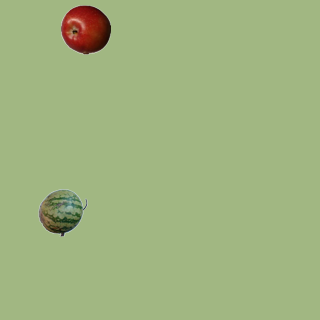Apple Braeburn: (60, 4, 110, 54)
Watermelon: (37, 187, 87, 237)
